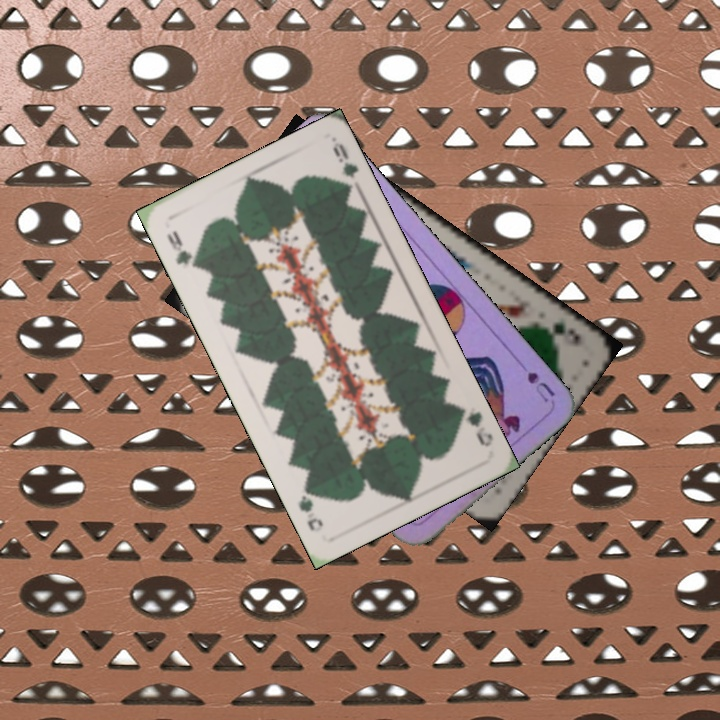G9: (452, 402, 496, 449), (162, 226, 203, 273)
GK: (534, 317, 584, 345)
SU: (511, 354, 558, 405)
